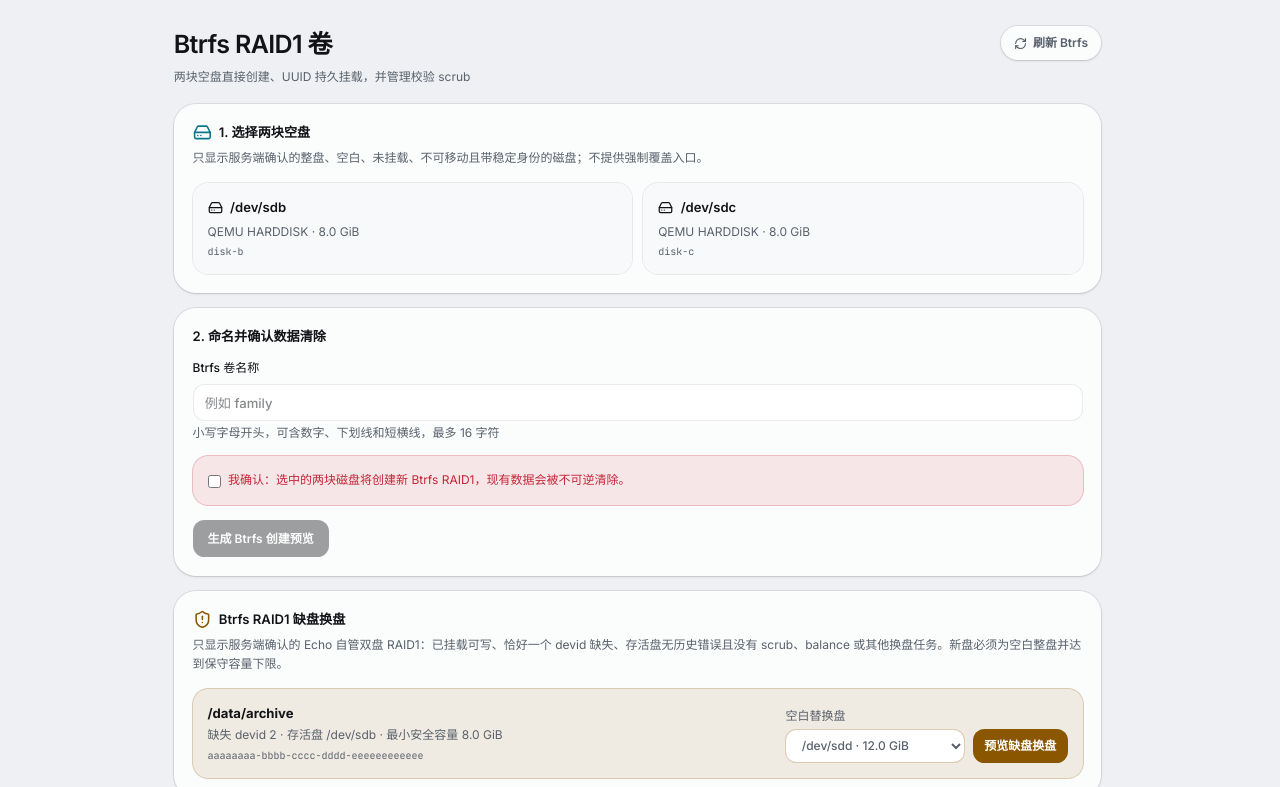
Test: Btrfs RAID1 panel › previews a server-approved missing member replacement and uses a distinct approval
Click the button "预览缺盘换盘" at (1020, 746), box [973,729,1068,763]
(page scrolled)
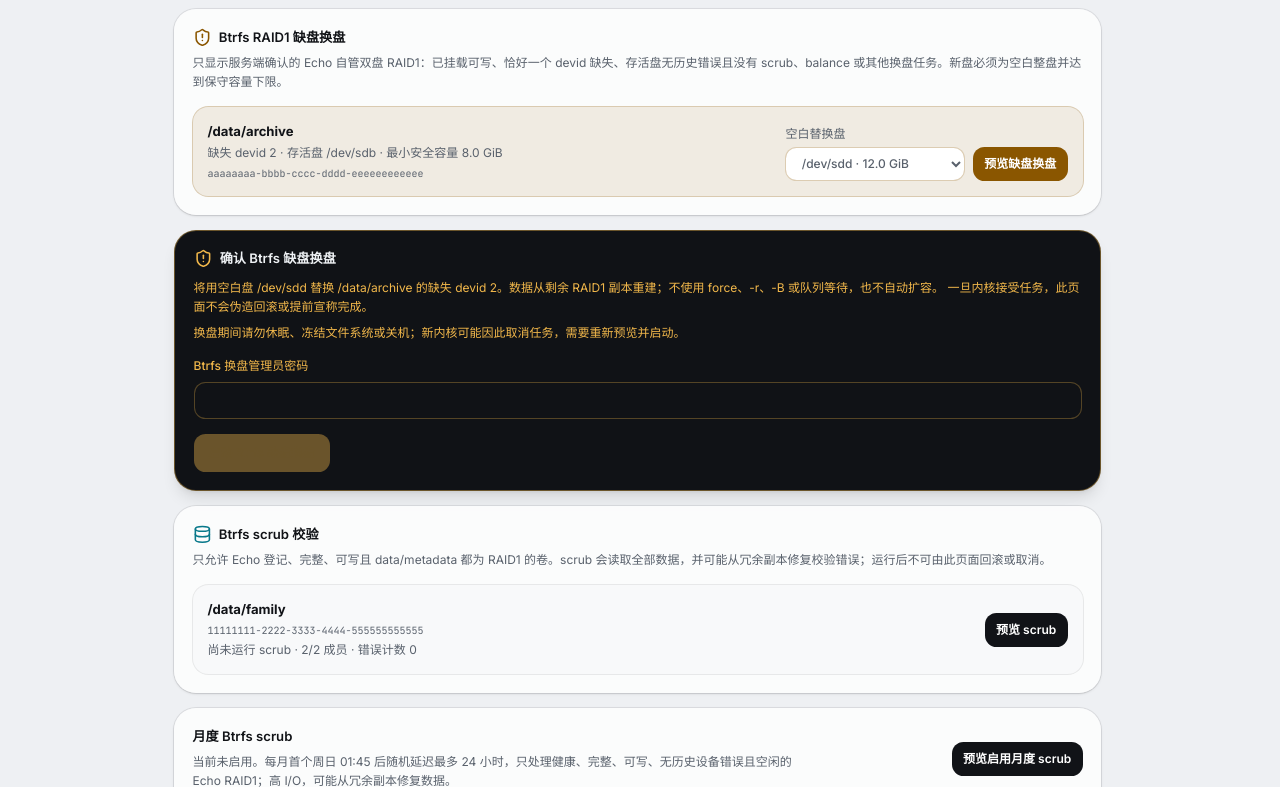
Expected: the text "不使用 force、-r、-B" is shown, [194,280,1080,314]
Expected: the text "换盘期间请勿休眠、冻结文件系统或关机；新内核可能因此取消任务，需要重新预览并启动。" is shown, [194,325,686,340]
Type "replace-password" into the password field labelled "Btrfs 换盘管理员密码" at (638, 400), box [194,382,1082,419]
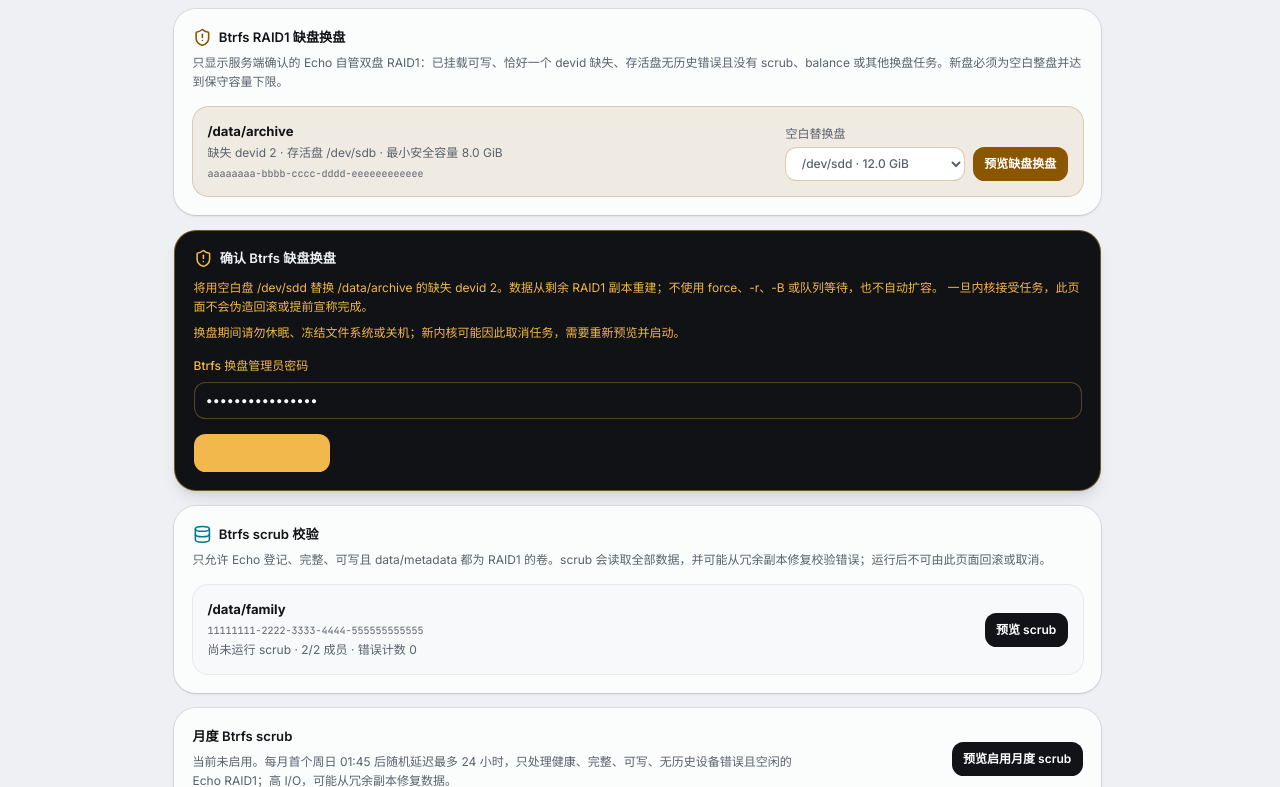
Click the button "启动 Btrfs 缺盘换盘" at (262, 453), box [194,434,330,472]
(page scrolled)
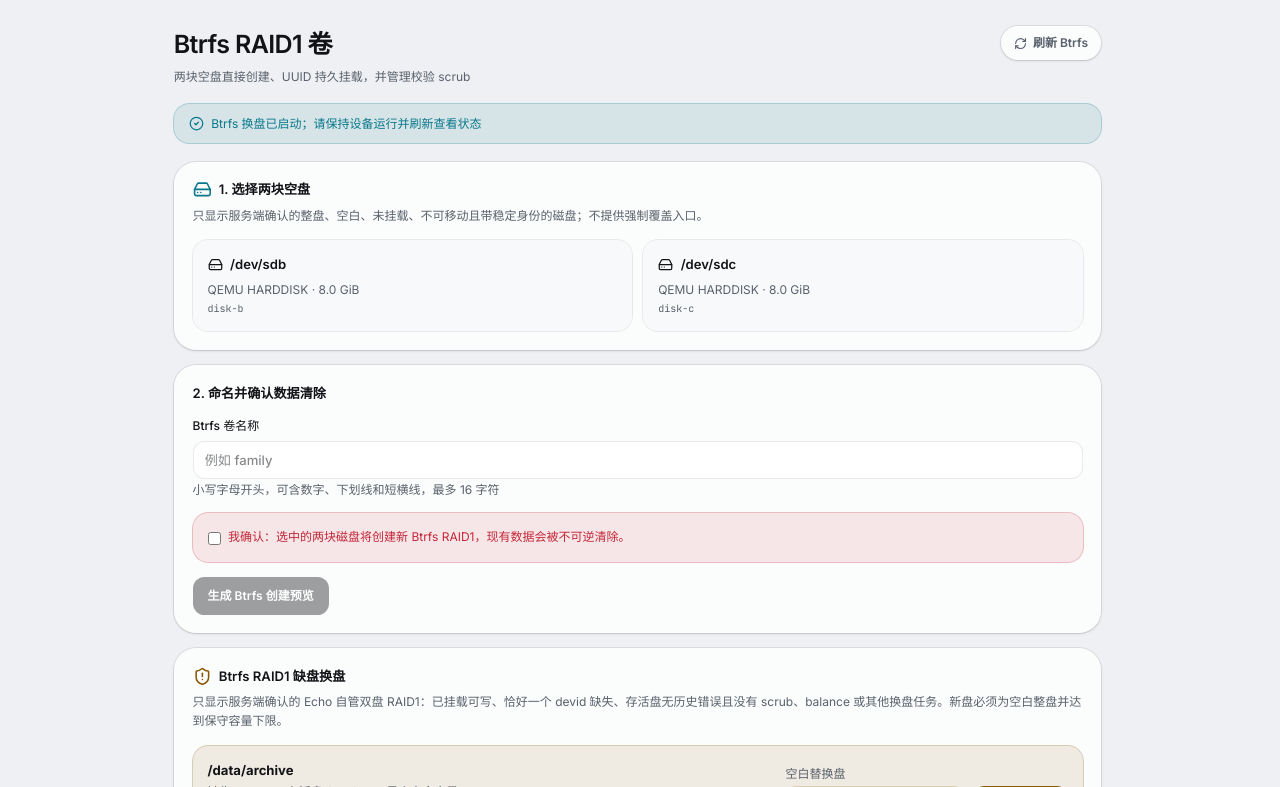
Expected: the text "Btrfs 换盘已启动；请保持设备运行并刷新查看状态" is shown, [174,104,1101,143]
